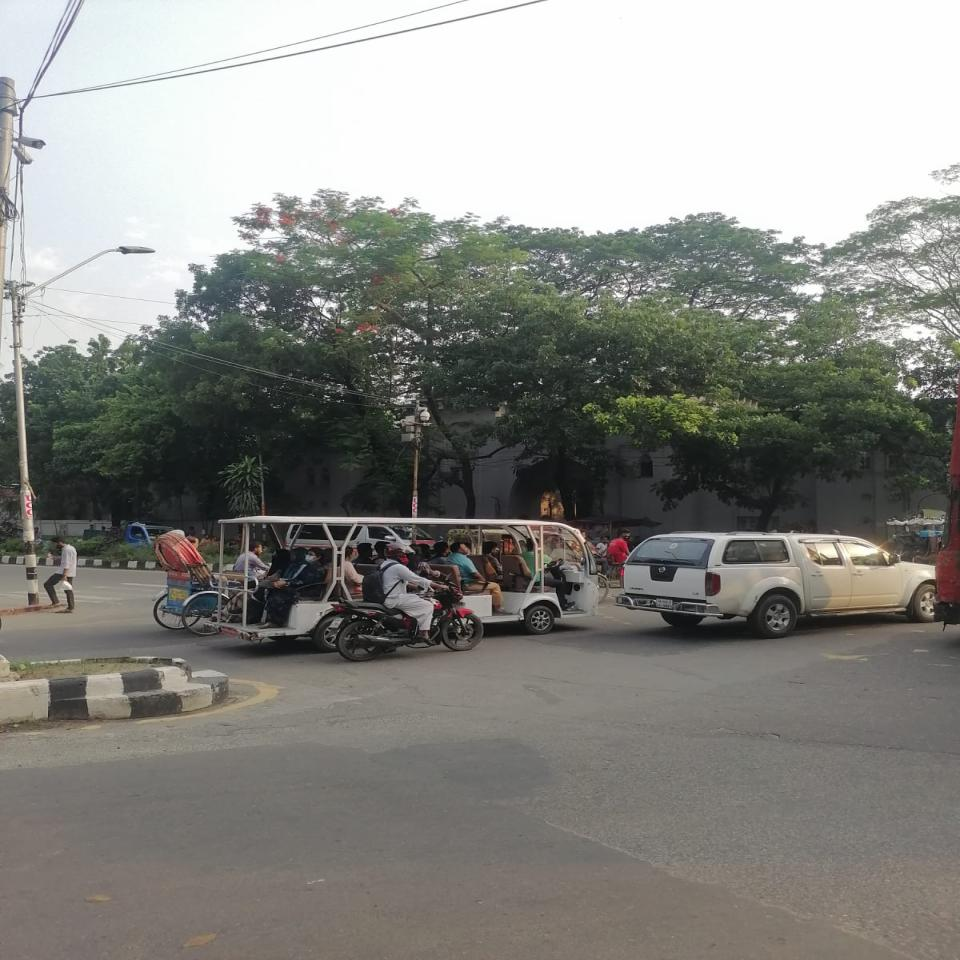person: (44, 536, 77, 613)
